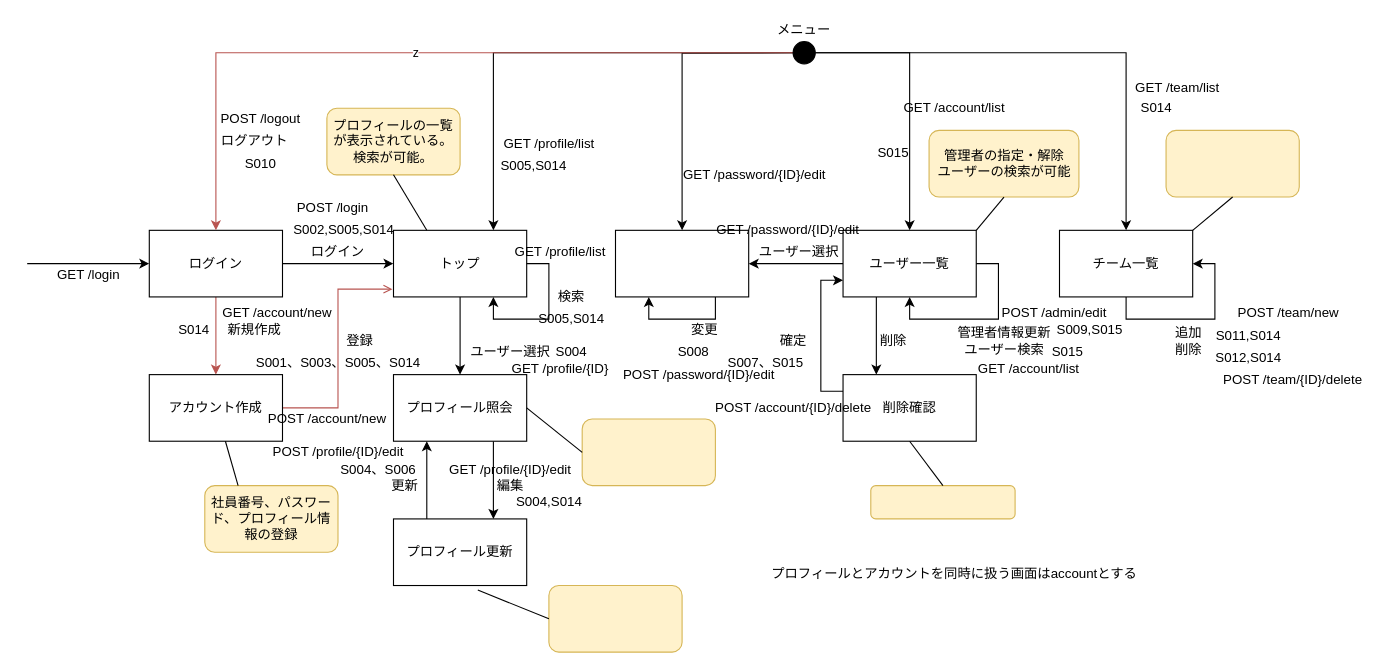
This 1390x672 diagram has some shape labels left out. Here are the shapes that lost their labels. From the top down, the centre of each, then its label:
At [1232,163]: "ユーザの所属チームの選択肢を増減可能".
At [681,263]: "パスワード変更".
At [648,452]: "プロフィールの閲覧、自己紹介資料のダウンロードが可能".
At [942,502]: "モーダル画面".
At [615,618]: "プロフィール更新、自己紹介資料のアップロードが可能".
